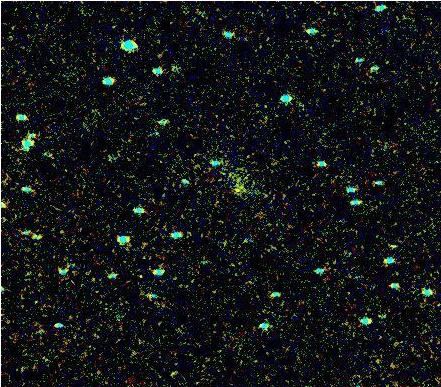star: (221, 178, 251, 208)
